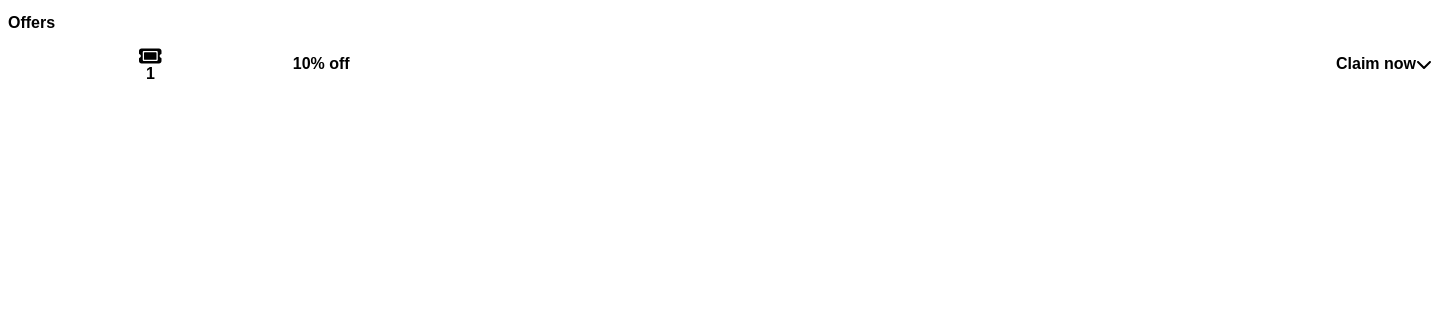
Scenario: store page offers › prints a shop offer with no products and says it covers the whole shop
Click the button "1 10% off Claim now" at (321, 63), box [8,46,1432,82]
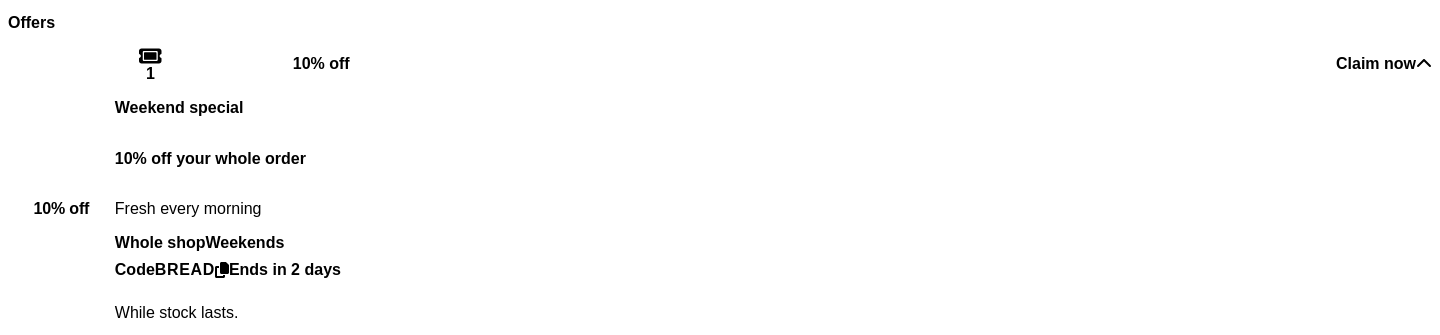
Now the heading "Weekend special" is shown, box [115,98,244,116]
Now the list item "Whole shop" is shown, box [115,234,206,252]
Now the list item "Weekends" is shown, box [206,234,284,252]
